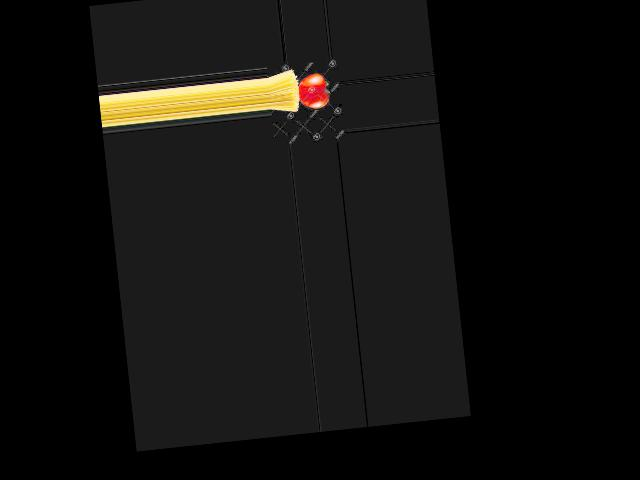tomato: (296, 72, 329, 109)
